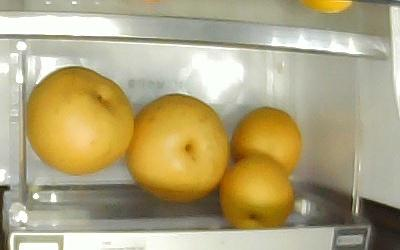pear: (26, 67, 135, 175), (125, 93, 230, 203), (218, 156, 294, 228), (230, 107, 302, 176)
